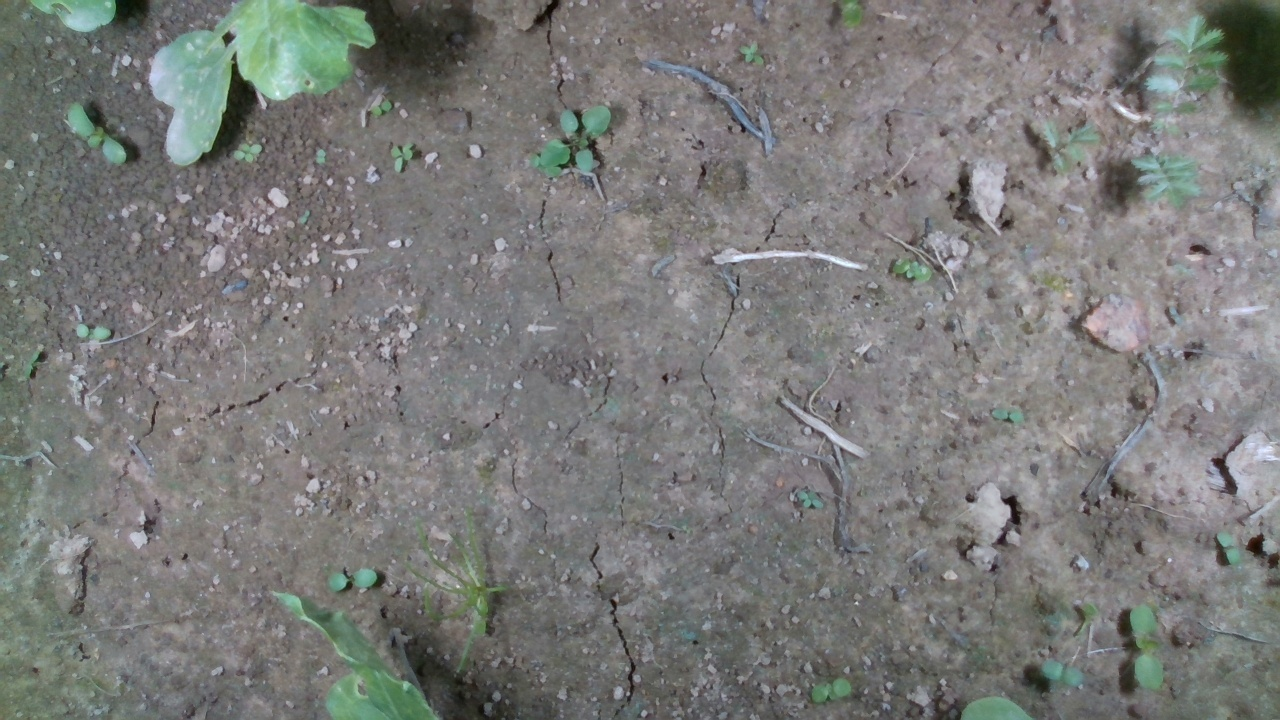weed: (64, 100, 131, 168)
